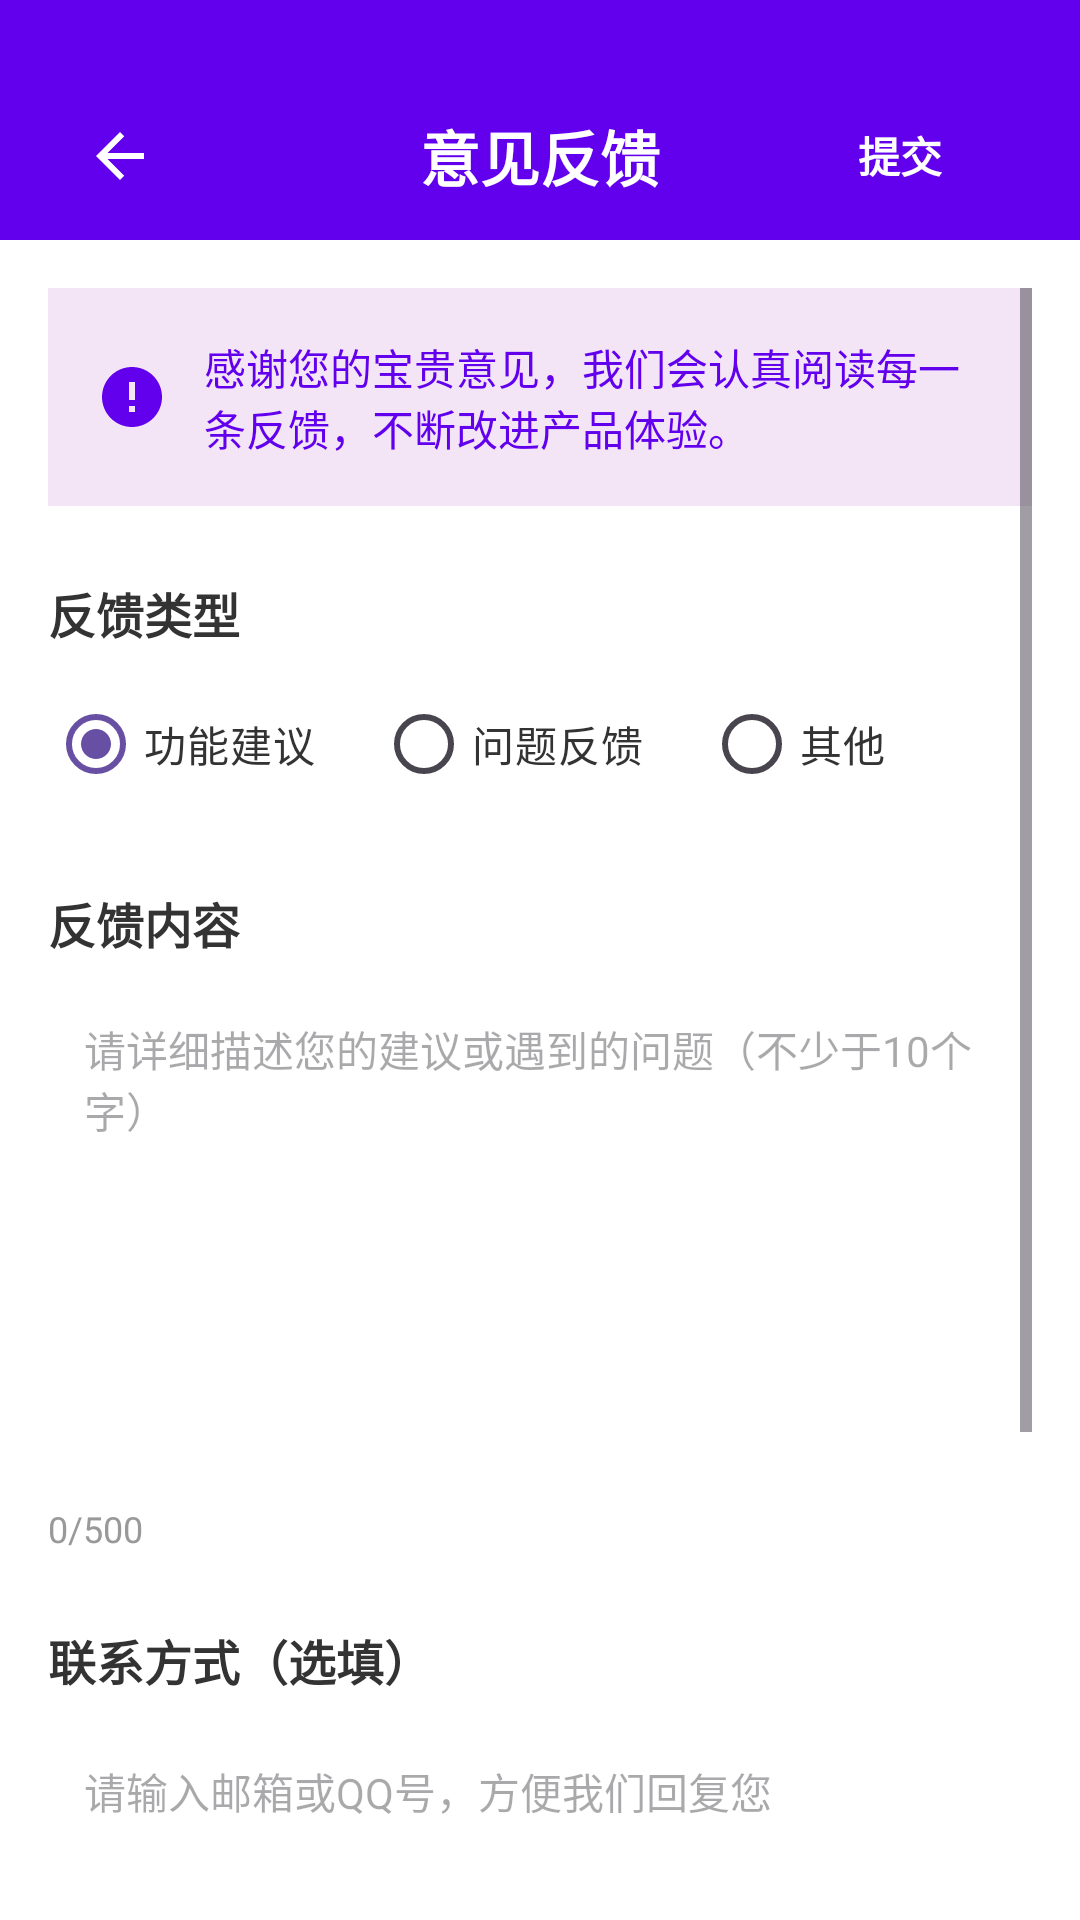

Point at icon controls on the screen. Image size 1080*1920, points as point (x, y).
feedback info: point (132, 397)
返回: point (120, 156)
